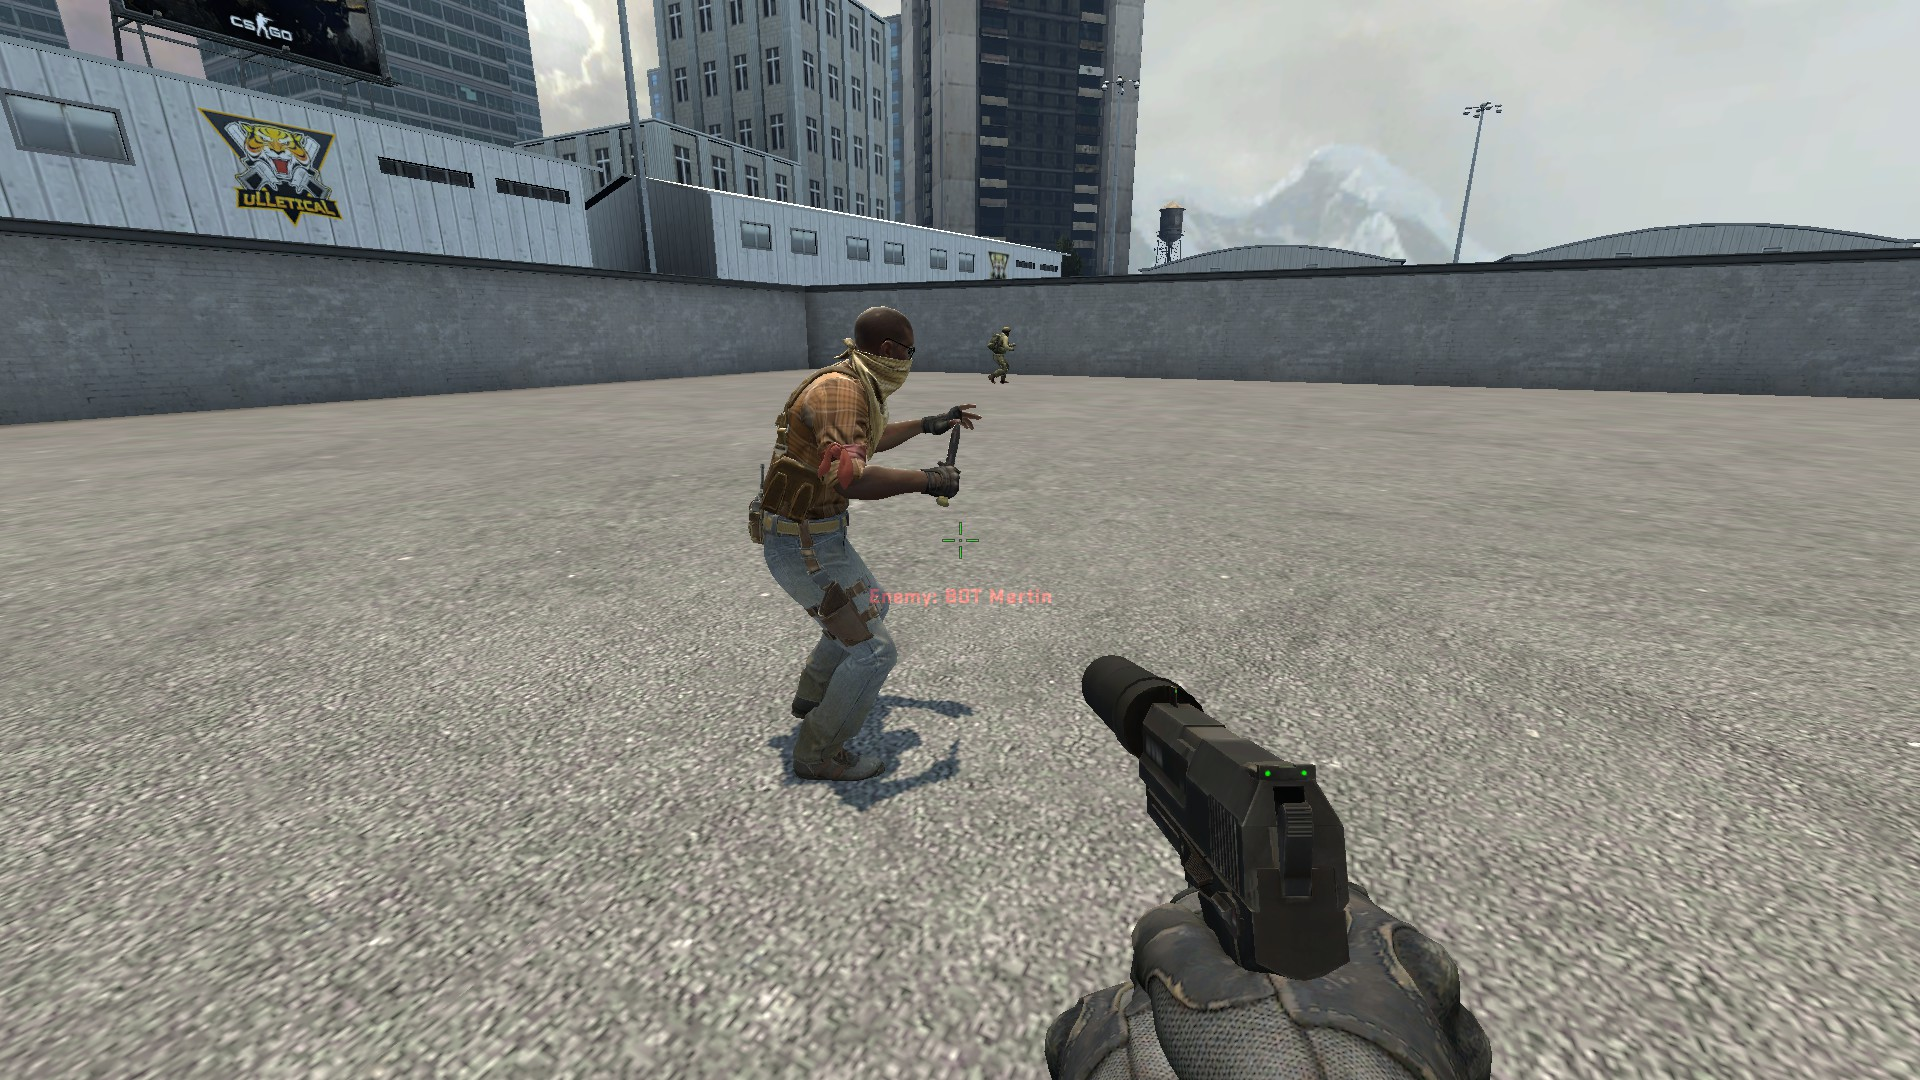tr: (747, 304, 984, 786)
tr head: (838, 302, 918, 400)
